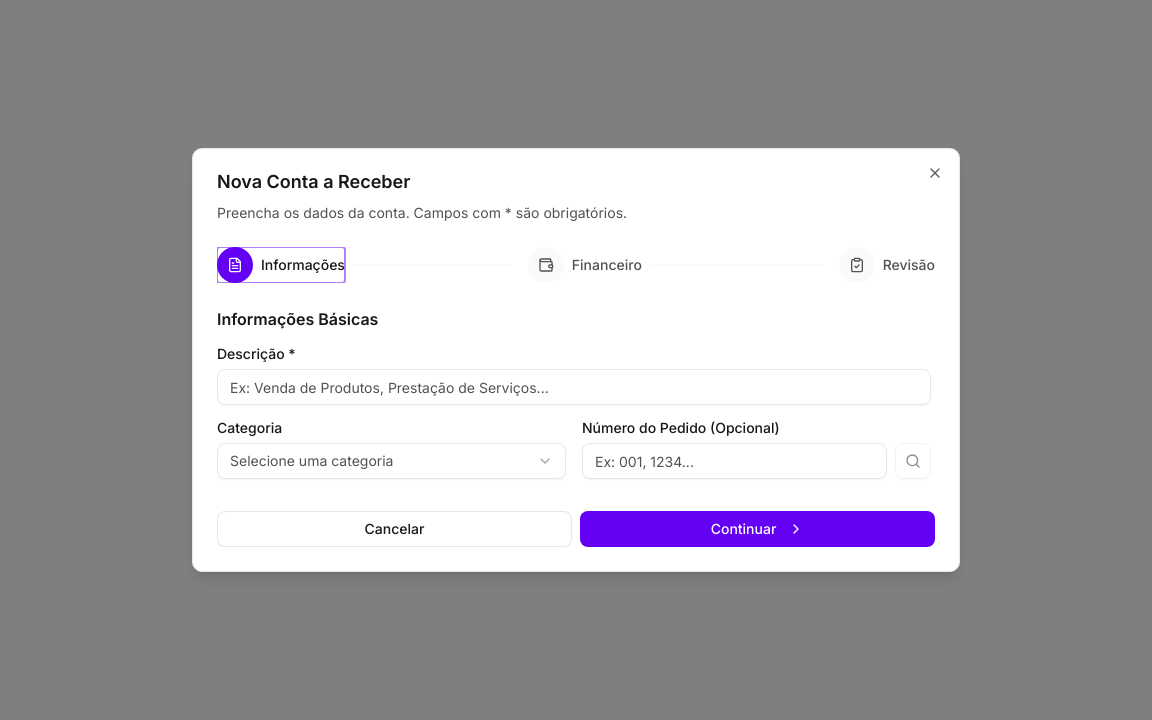
it: AccountReceivableFormDialog - wizard de passos › não avança sem descrição obrigatória
This screenshot has width=1152, height=720.
Click the button "Continuar". click: (758, 529)
box: [580,511,935,547]
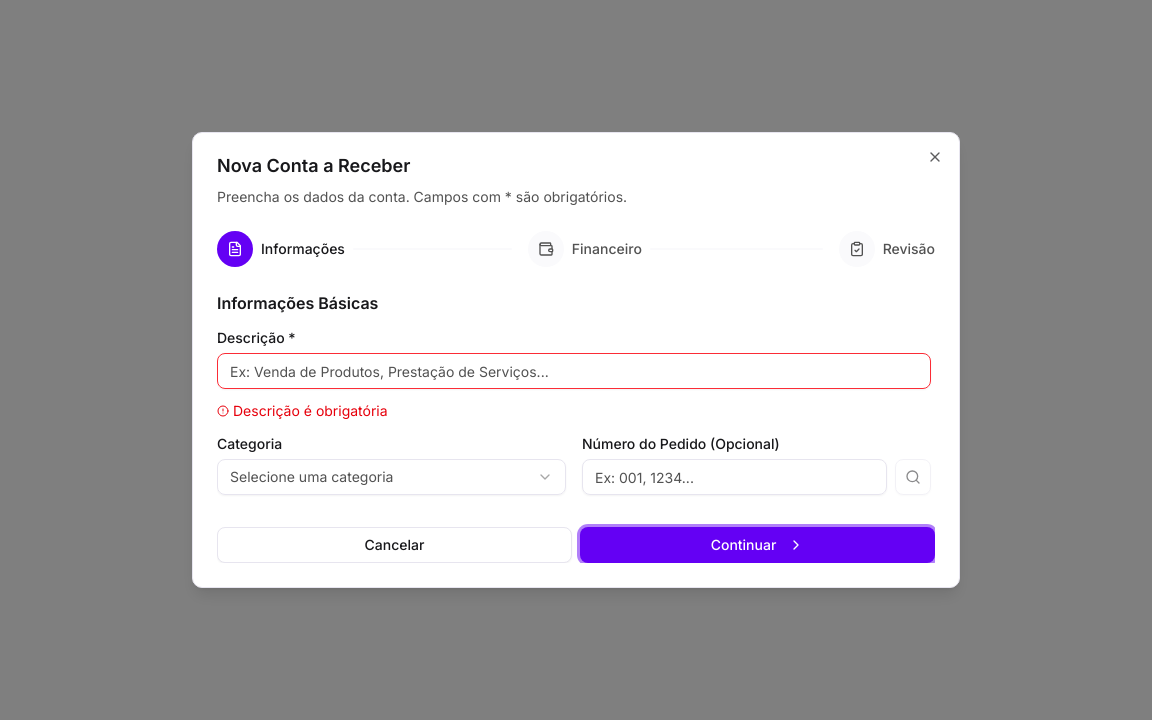
Now the text "Descrição é obrigatória" is shown, box [217,402,388,419]
